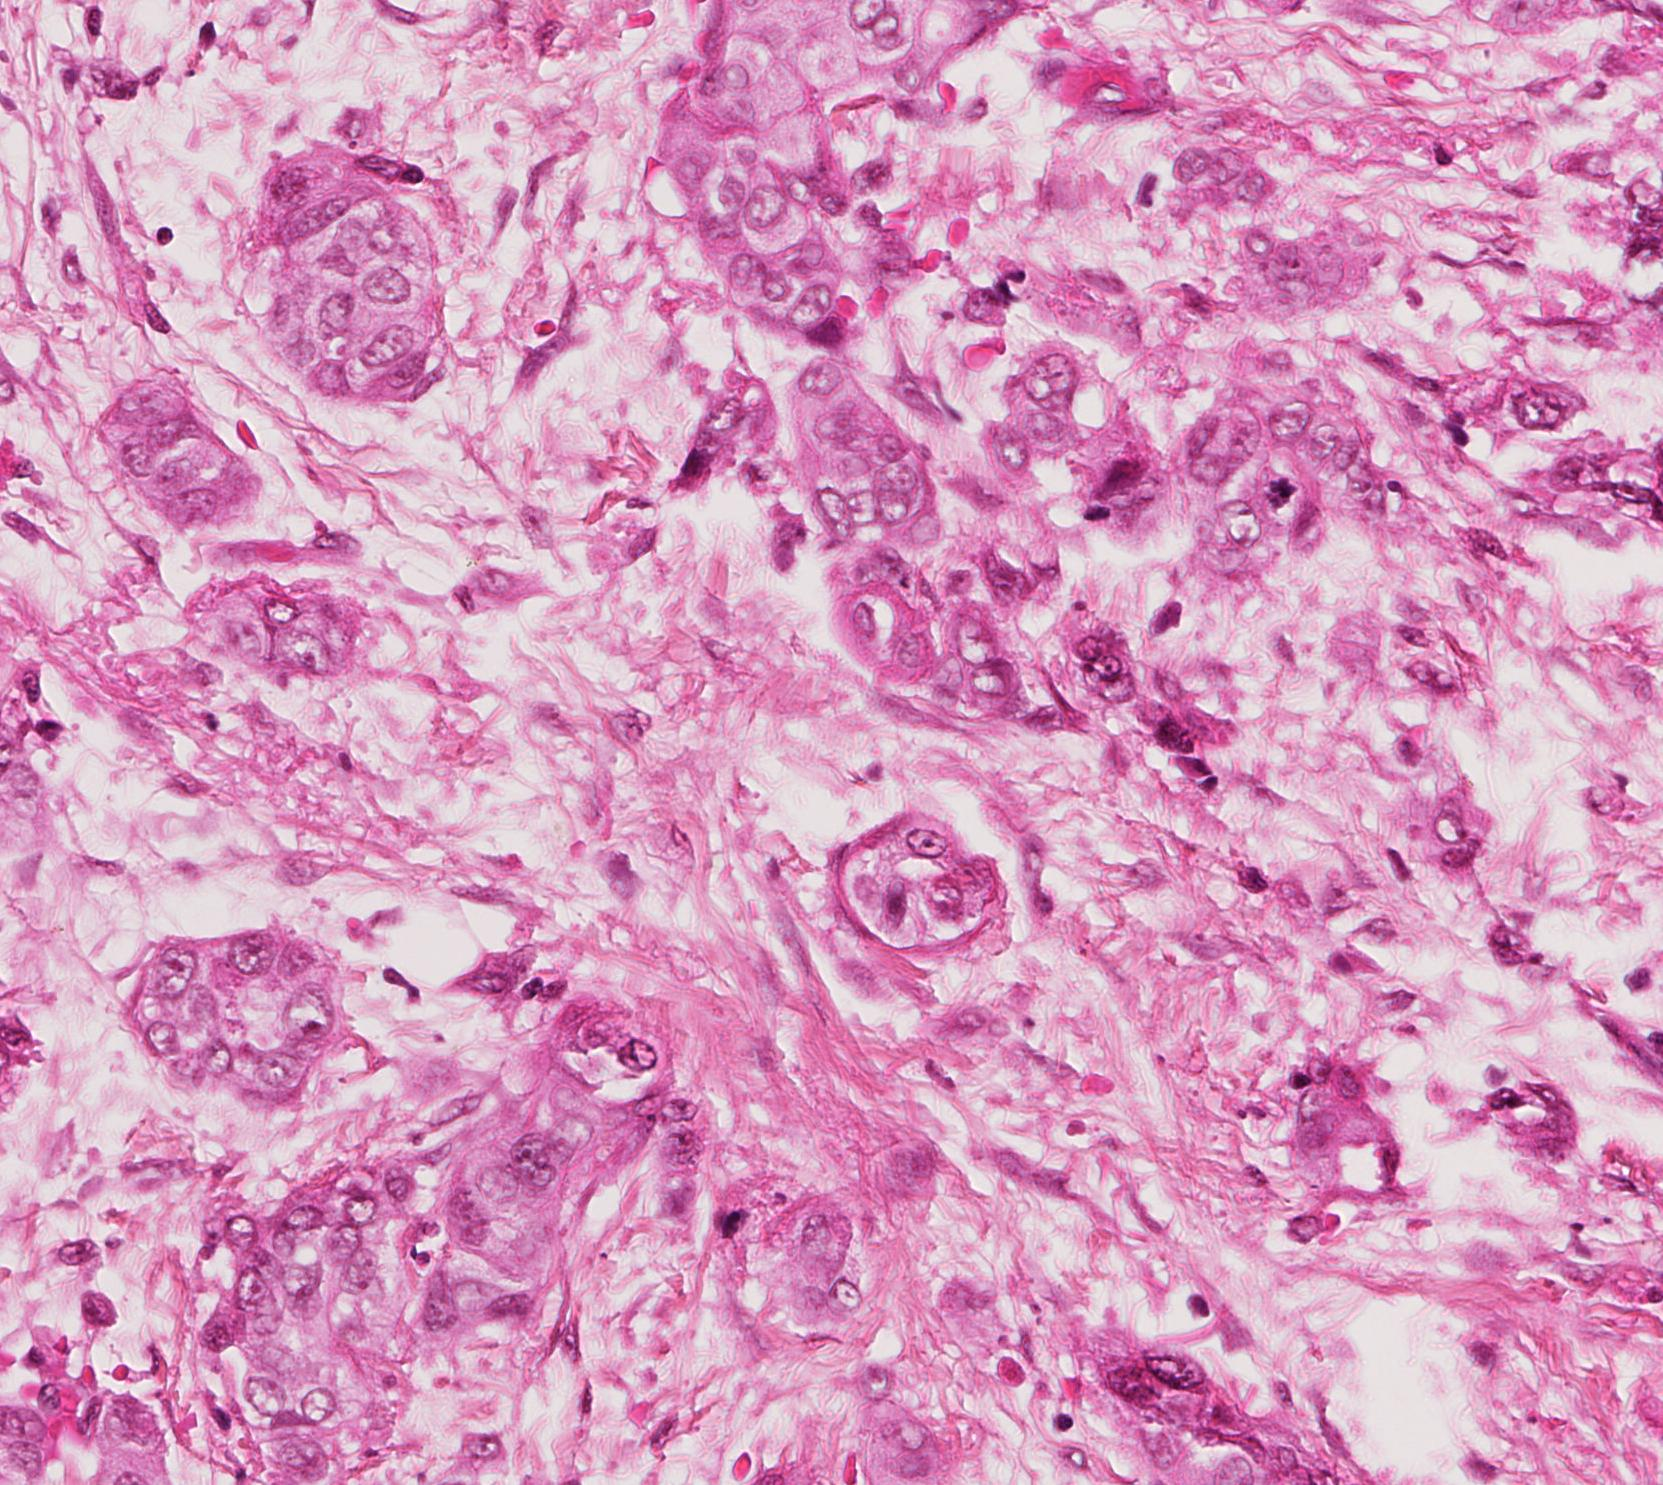mitosis: (1250, 460, 1310, 520), (704, 1193, 764, 1251)
